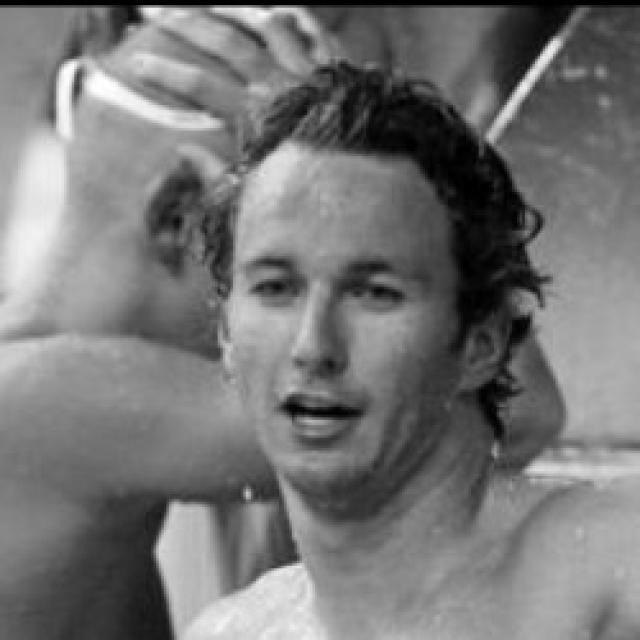real: (220, 106, 488, 492), (240, 253, 423, 327)
